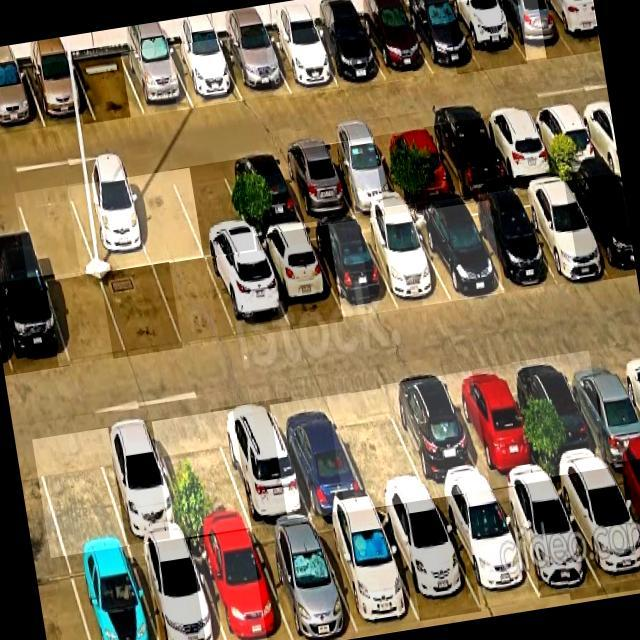empty: (327, 389, 430, 505), (153, 417, 252, 537), (33, 430, 127, 556), (171, 162, 255, 257), (122, 172, 204, 265), (15, 186, 96, 279), (100, 266, 183, 356), (154, 259, 238, 346), (46, 275, 126, 364), (74, 53, 146, 121)
occupied: (314, 510, 421, 638), (383, 377, 490, 499), (251, 521, 358, 640), (493, 481, 601, 598), (375, 502, 482, 620), (434, 490, 540, 609), (212, 401, 311, 526), (444, 367, 546, 488), (92, 422, 188, 545), (270, 398, 369, 516), (512, 357, 608, 477), (190, 530, 293, 640), (552, 468, 640, 594), (131, 538, 225, 640), (513, 183, 610, 281), (561, 351, 640, 467), (460, 197, 555, 292), (410, 206, 504, 301), (308, 220, 398, 317), (256, 229, 343, 329), (358, 213, 451, 306), (68, 547, 158, 640), (67, 179, 151, 273), (565, 175, 636, 277), (207, 251, 290, 337), (0, 278, 69, 375), (425, 120, 510, 198), (222, 154, 304, 234), (275, 146, 355, 223), (322, 138, 403, 213), (374, 129, 455, 202), (480, 110, 559, 184), (447, 0, 527, 71), (527, 103, 604, 175), (404, 4, 481, 75), (359, 8, 433, 81), (311, 19, 385, 87), (121, 47, 193, 115), (168, 43, 243, 108), (492, 0, 573, 60), (25, 60, 95, 128), (264, 30, 338, 93), (220, 36, 289, 99), (542, 0, 600, 53), (0, 68, 45, 135), (609, 461, 640, 534)
